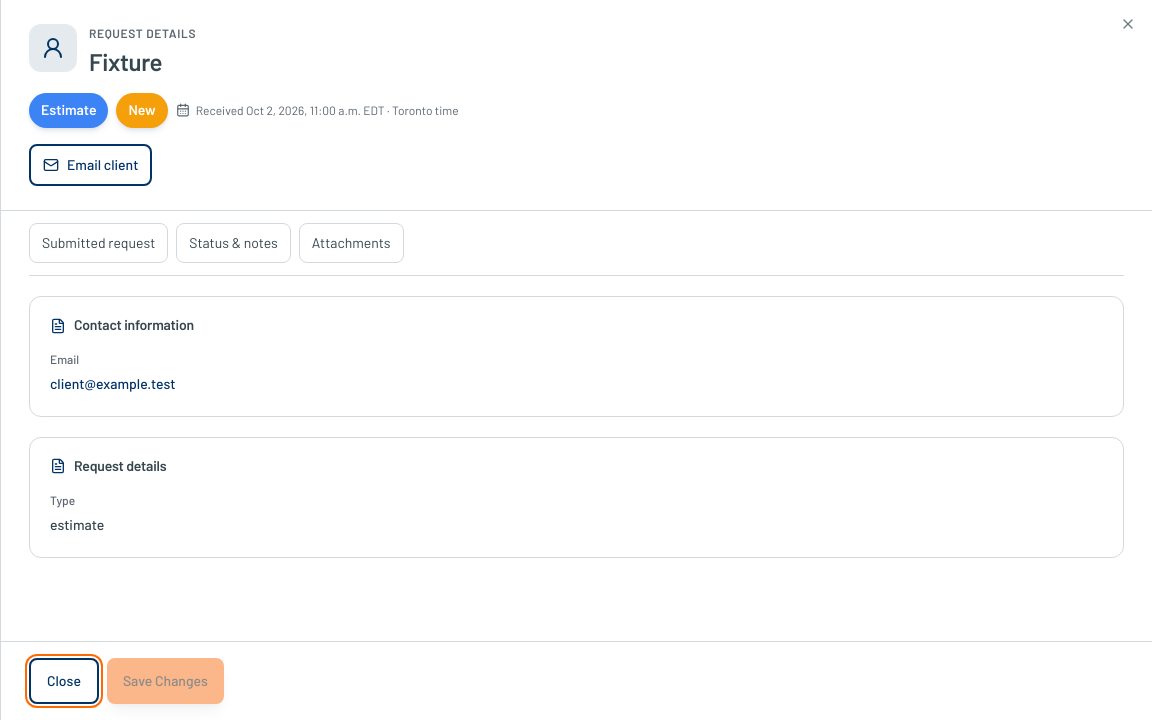
Test: request detail form › protects unsaved notes when closing the detail panel and provides no hard-delete action
Later steps or results of the test are not shown.
Click the link "Status & notes" at (233, 243), box [176,223,291,263]
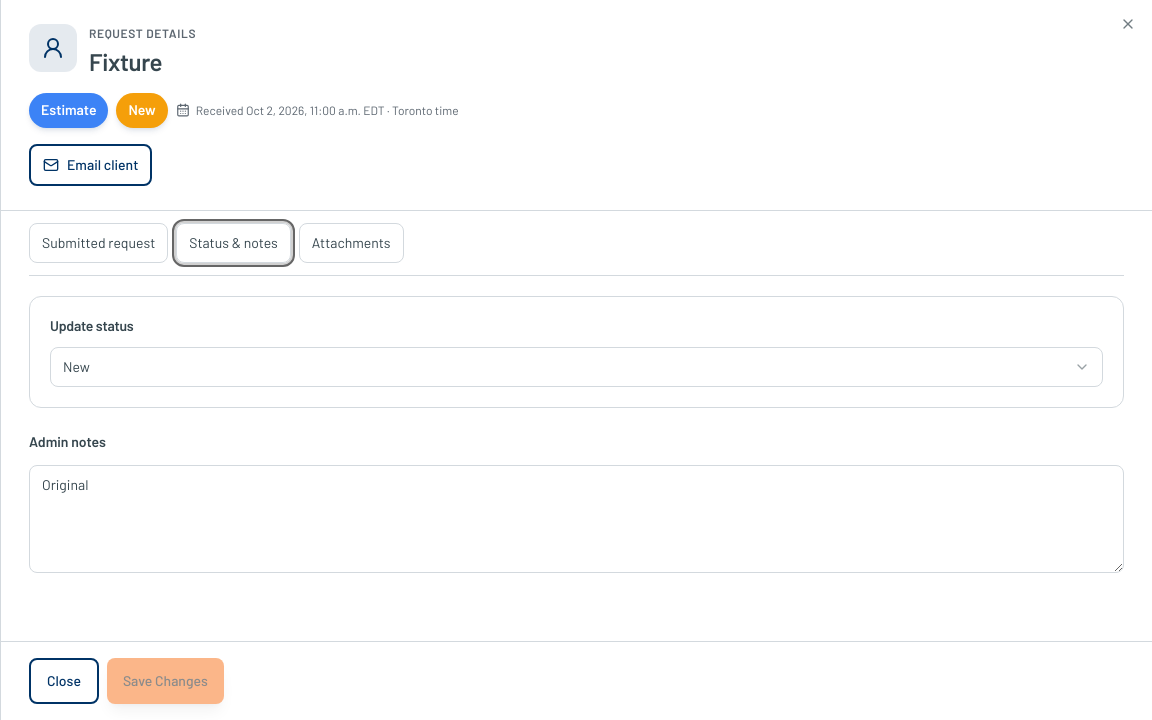
Replace the text in the text box labelled "Admin notes" with "Unsaved follow-up" at (576, 519), box [29,466,1124,573]
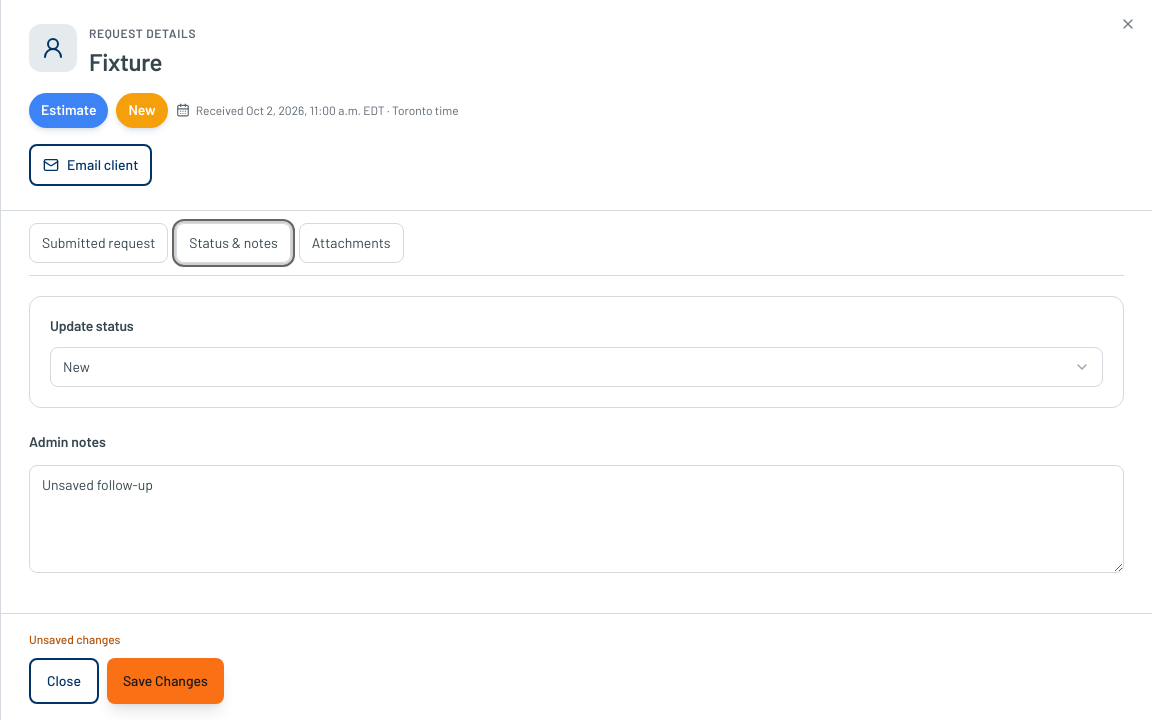
Click the button "Close" at (64, 681), box [29,658,99,704]
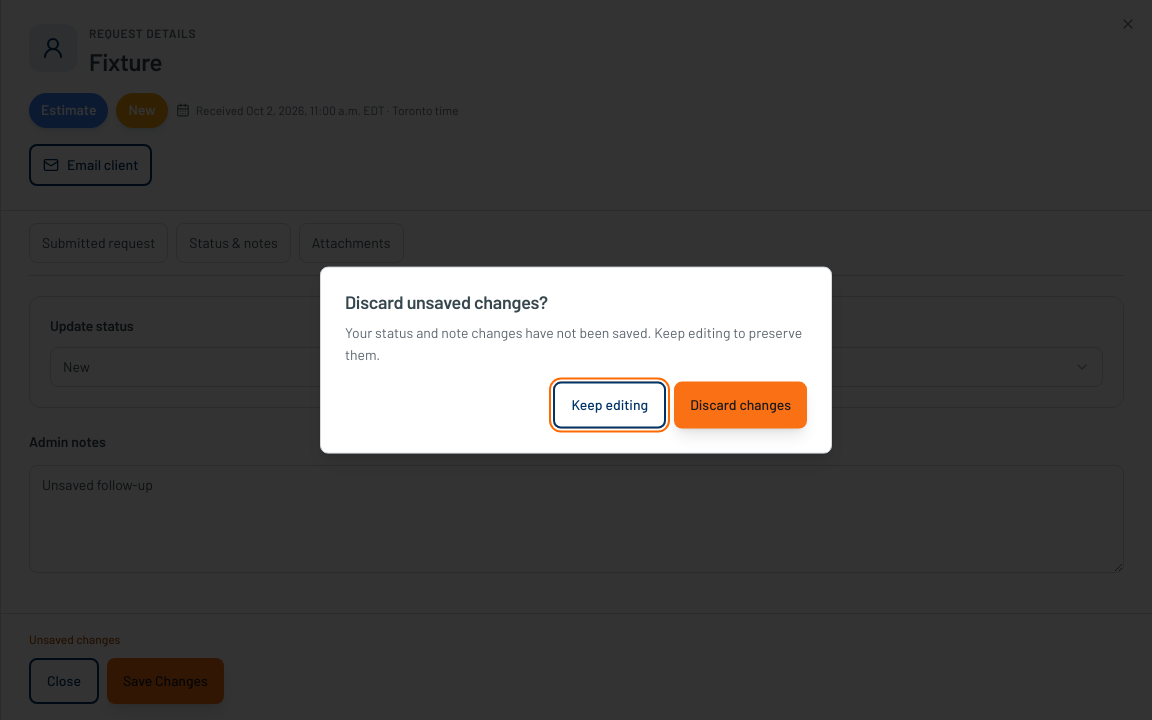
Now the dialog that starts with "Discard unsaved changes?" is shown, box [345,291,548,313]
